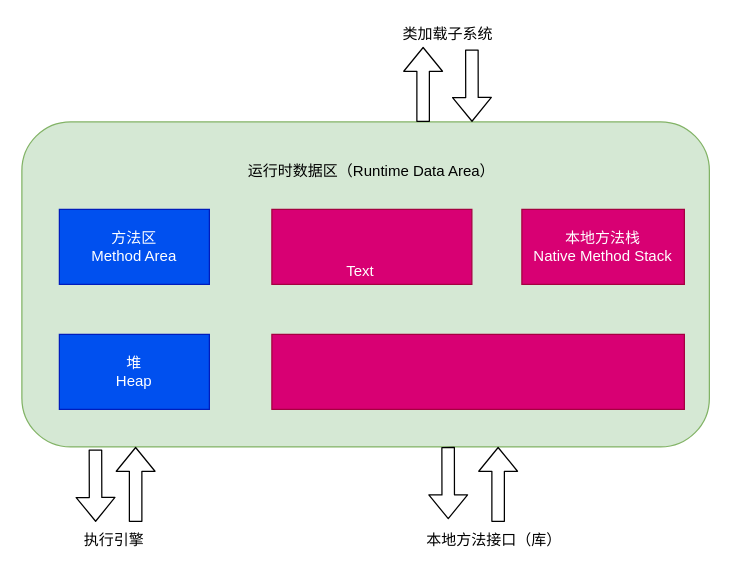
This 731x574 diagram has some shape labels left out. Here are the shapes that lost their labels. From the top down, the box of each, then its label:
(271, 208, 472, 284): 程序计数器 Program Counter Register
(271, 333, 684, 409): 虚拟机栈 Java Virtual Machine Stack
